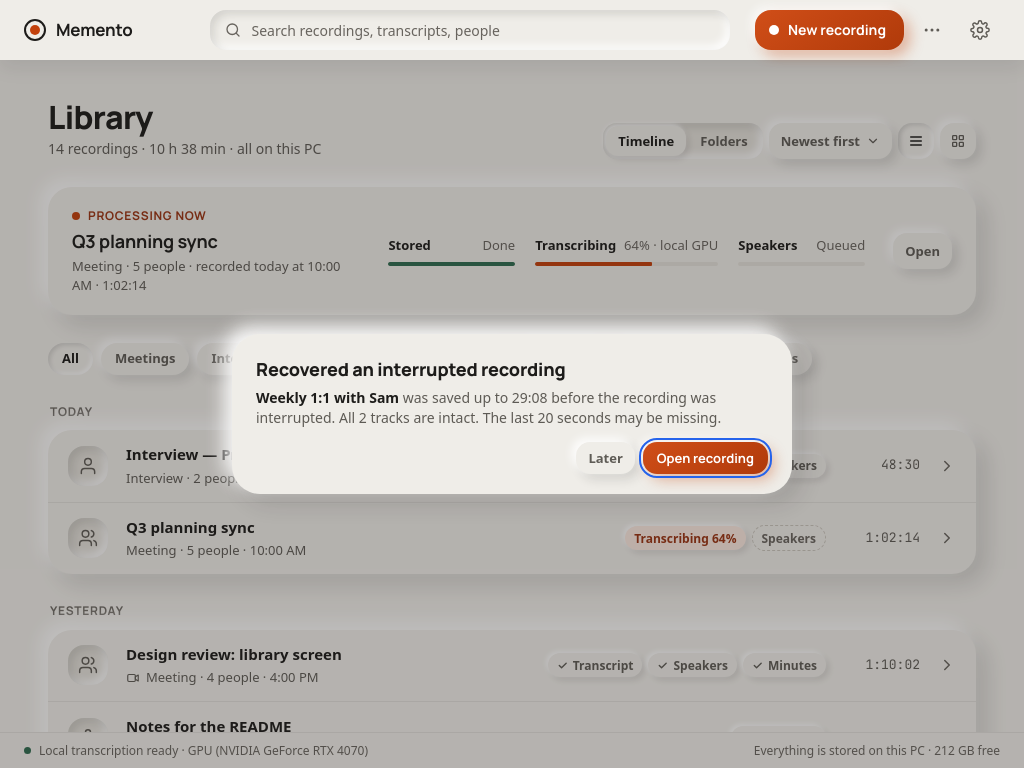
Test case: Library, populated (against the browser-preview host) › shows the recovery dialog at launch; Later acknowledges it
This screenshot has width=1024, height=768.
expect the heading with class "dialog-title" reads "Recovered an interrupted recording": met, box [256,357,566,381]
expect the element with class "dialog-body" shows "Weekly 1:1 with Sam was saved up to 29:08 before the recording was interrupted. All 2 tracks are intact. The last 20 seconds may be missing.": met, box [256,388,768,428]
Step 1. Click the button "Later" → click(606, 458), box [576,442,635,474]
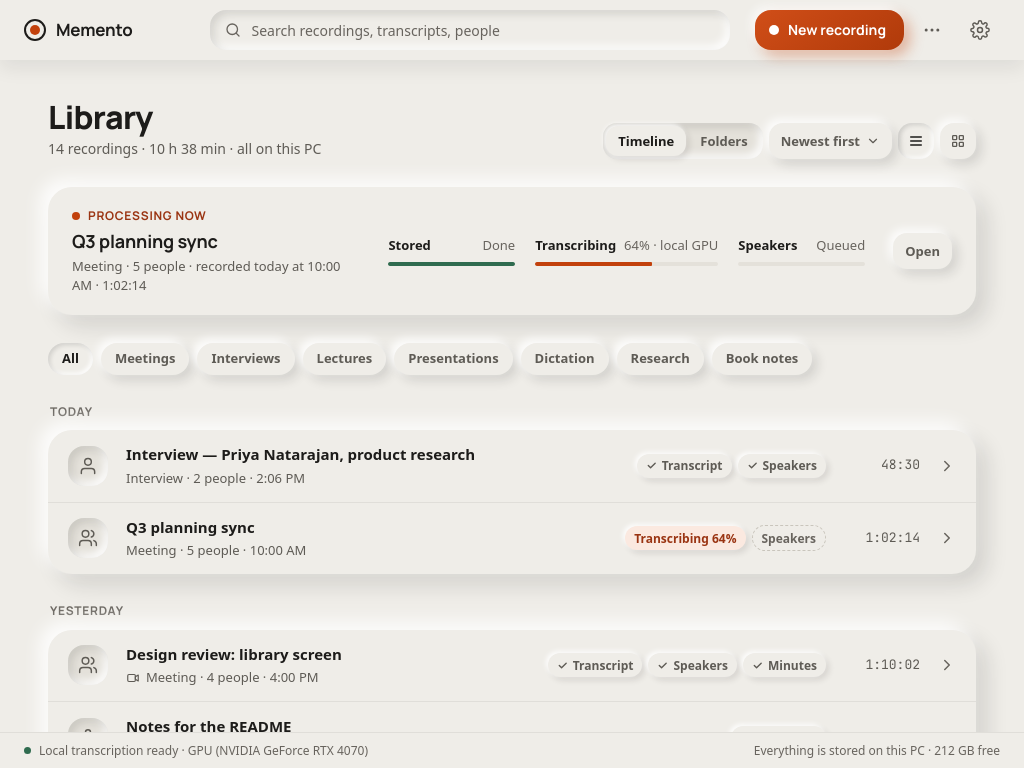
expect the dialog is gone: met
